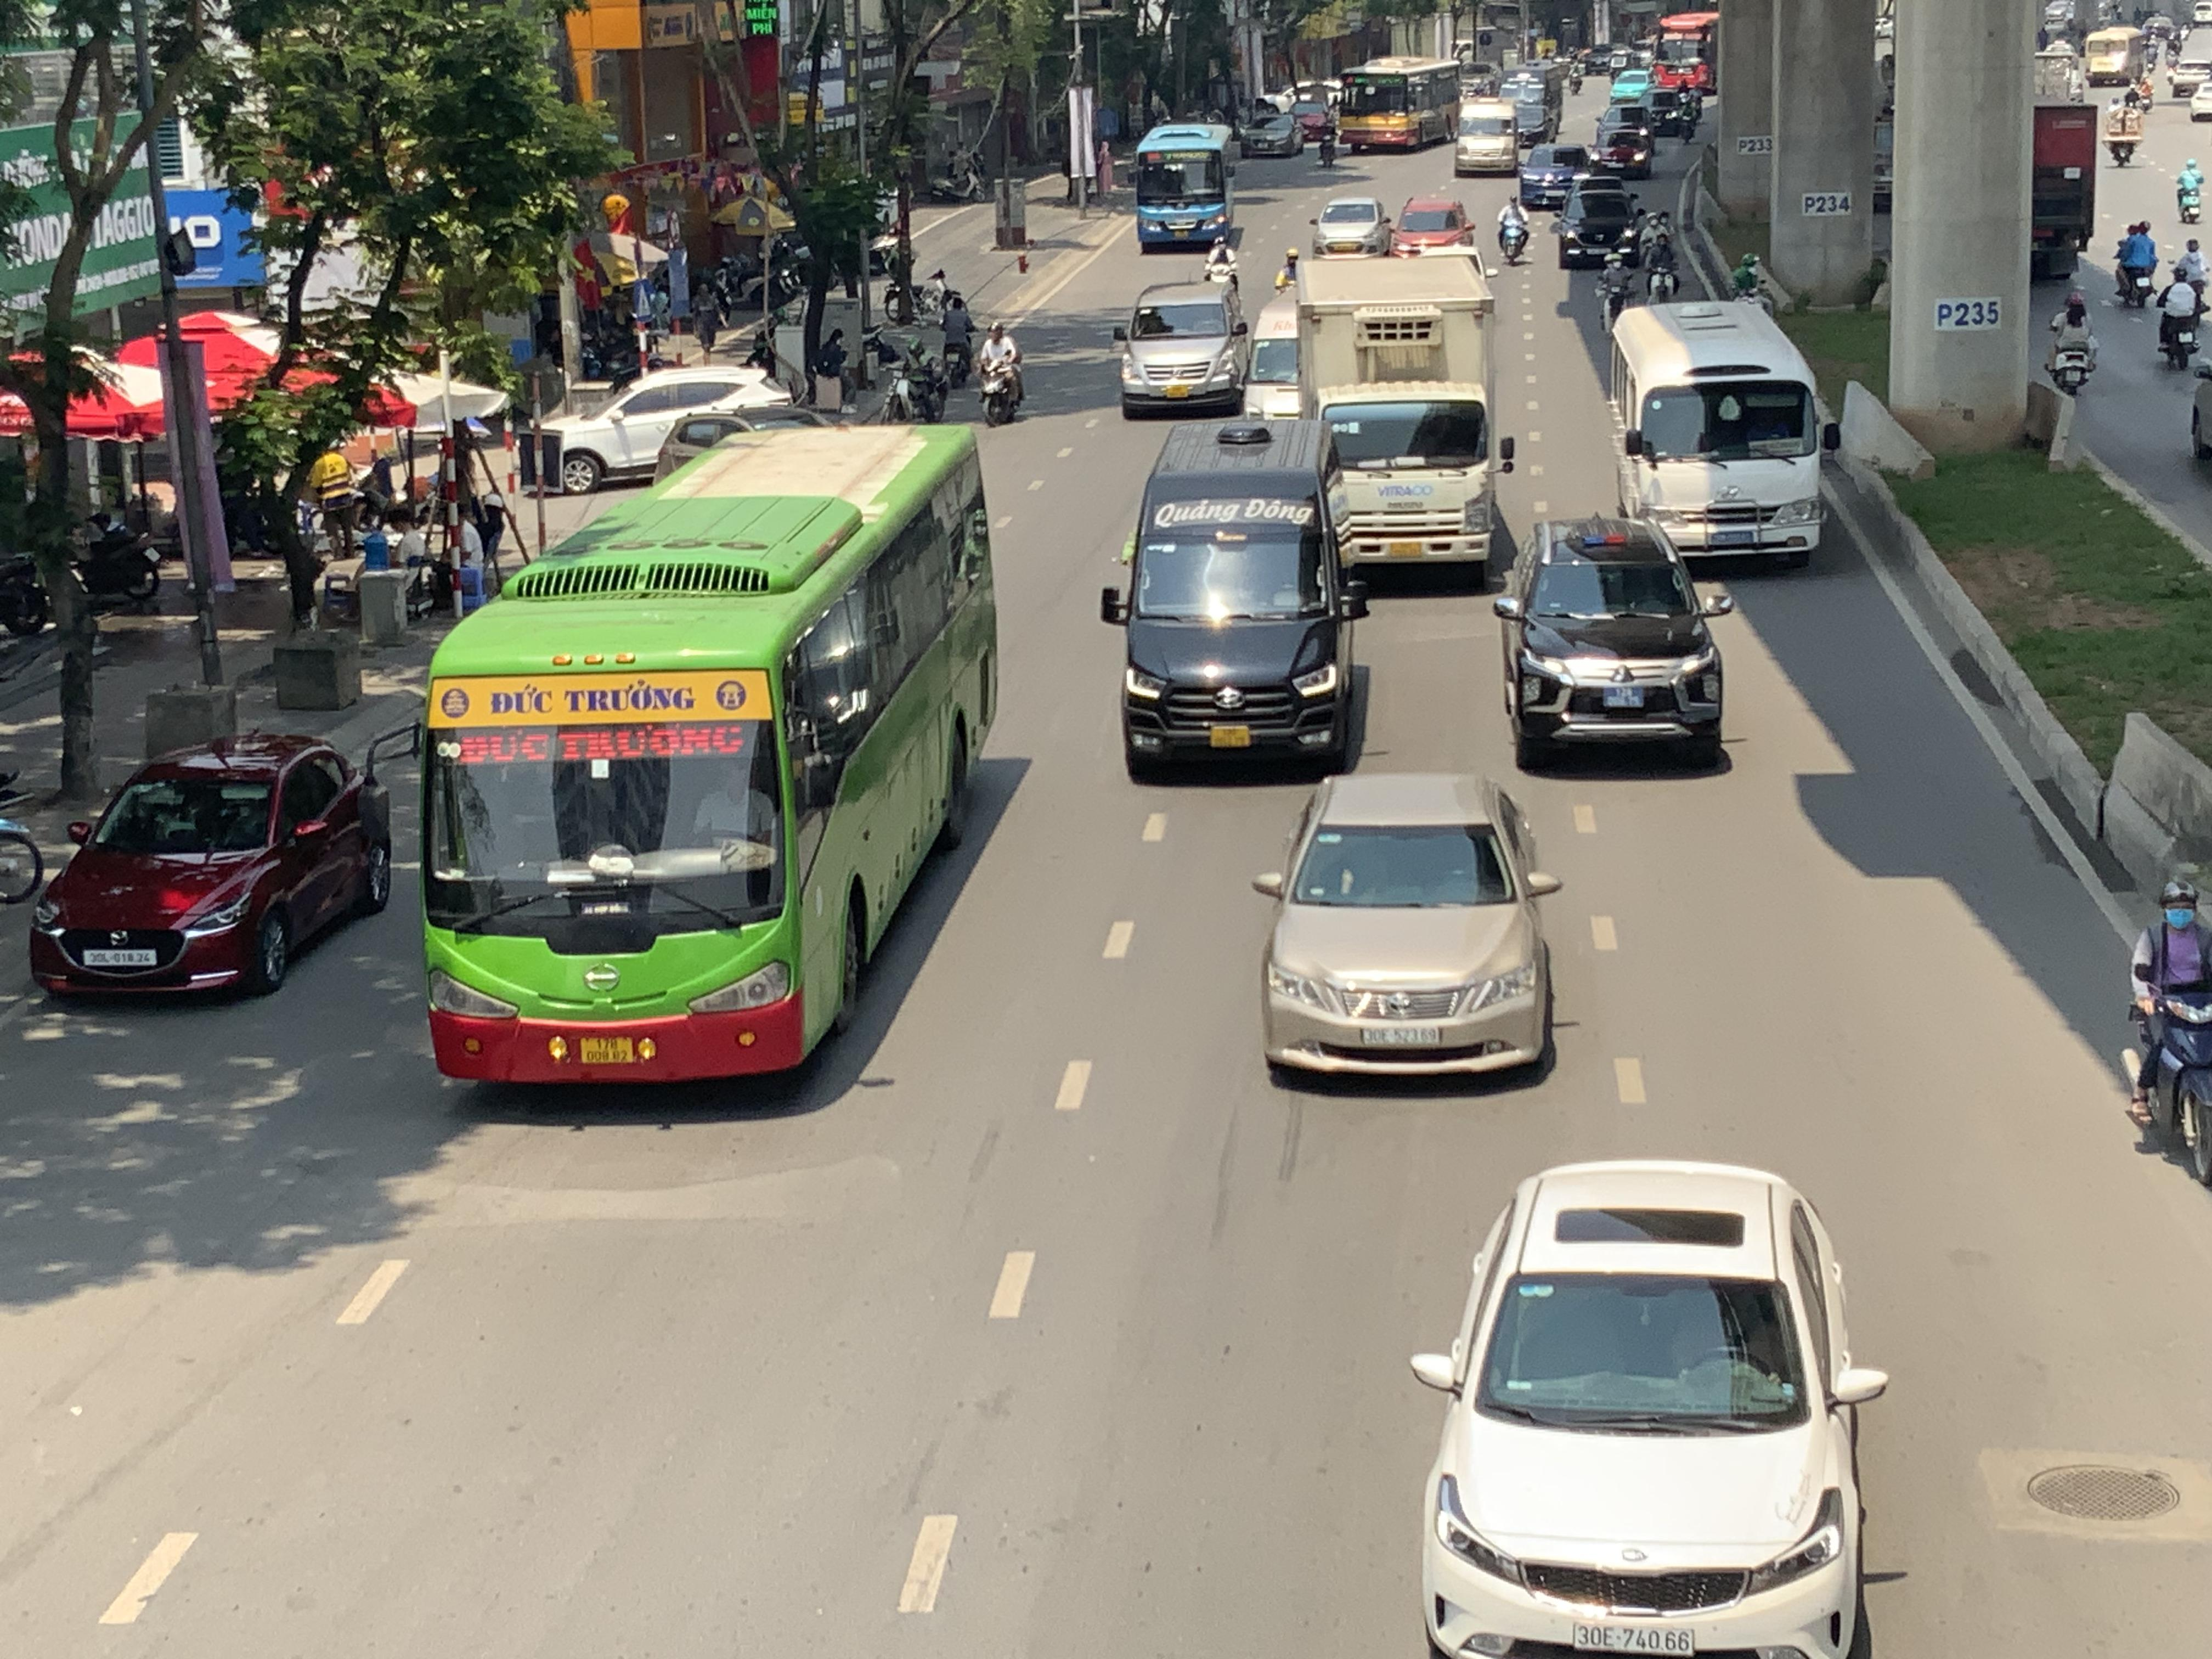BSD: (1571, 1622, 1695, 1656), (1362, 1025, 1440, 1047), (84, 948, 155, 965)
BSV: (580, 1037, 636, 1063), (1602, 687, 1644, 708), (1211, 727, 1251, 748)
bus: (413, 415, 1001, 1094), (1099, 418, 1359, 788), (1604, 296, 1834, 568), (1134, 120, 1240, 251), (1336, 54, 1461, 153), (1453, 92, 1522, 176)
car: (1409, 1159, 1893, 1659), (1251, 770, 1564, 1087), (28, 730, 394, 1000), (1491, 514, 1735, 772), (535, 364, 803, 493), (1111, 279, 1252, 418), (1554, 185, 1644, 268), (1392, 195, 1479, 256), (1312, 195, 1392, 256), (1519, 141, 1592, 207), (1588, 129, 1653, 181), (1240, 108, 1301, 159), (1592, 105, 1656, 148)
motorbike: (2123, 871, 2212, 1197), (66, 504, 165, 613), (0, 523, 56, 640), (2045, 288, 2099, 397), (2155, 261, 2205, 369), (977, 321, 1026, 425), (2111, 218, 2160, 310), (902, 338, 949, 425), (939, 295, 977, 389), (1644, 220, 1683, 301), (2104, 94, 2144, 167), (2172, 155, 2207, 225), (1496, 197, 1531, 265)
truck: (1292, 251, 1517, 580)
